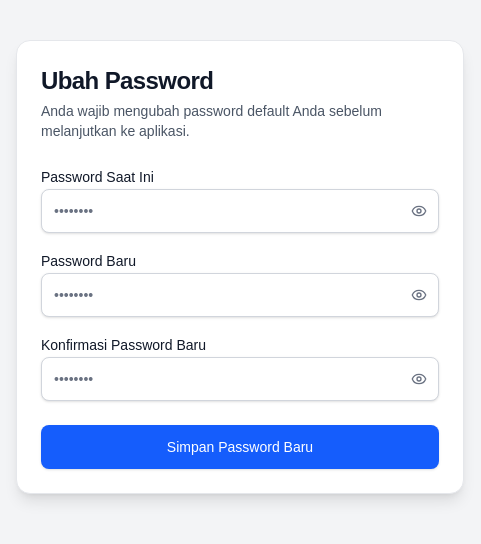
Scenario: ChangePasswordPage › shows validation errors for short password or mismatched confirmation
The width and height of the screenshot is (481, 544).
Step 1. Type "oldpass" into the password field labelled "Password Saat Ini" → (240, 211), box 41,189 -> 439,233
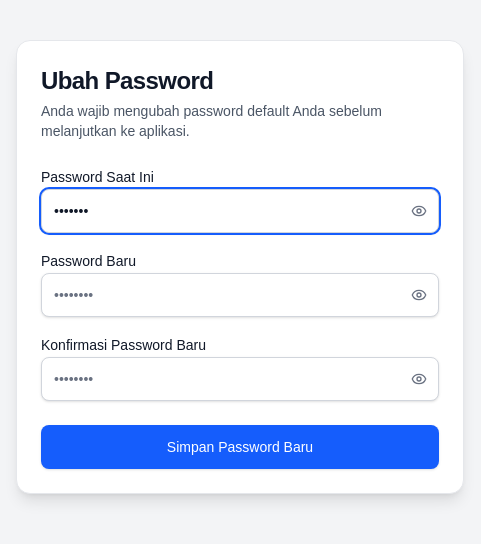
Step 2. Type "short" into the password field labelled "Password Baru" → (240, 295), box 41,273 -> 439,317
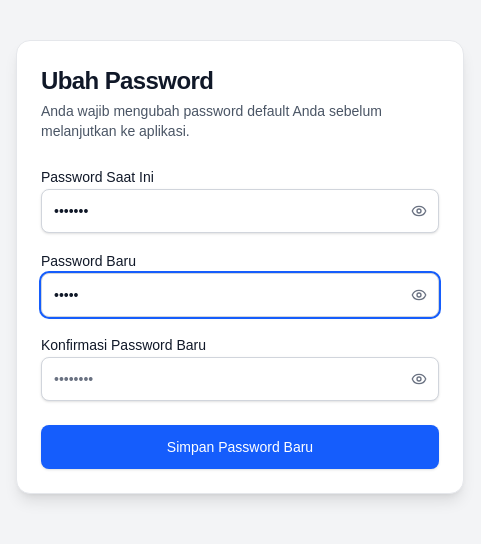
Step 3. Type "different" into the password field labelled "Konfirmasi Password Baru" → (240, 379), box 41,357 -> 439,401
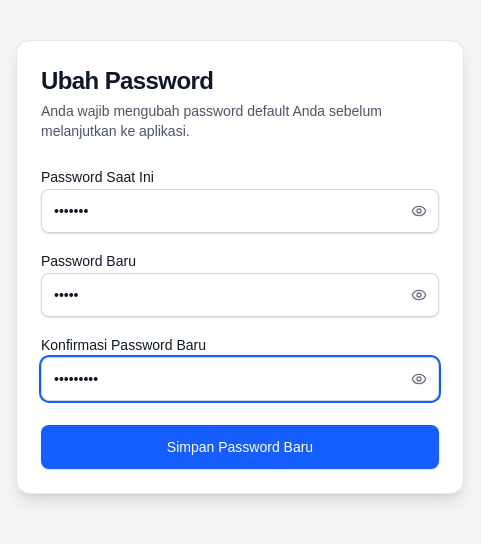
Step 4. Click the button "Simpan Password Baru" → click(240, 447), box 41,425 -> 439,469
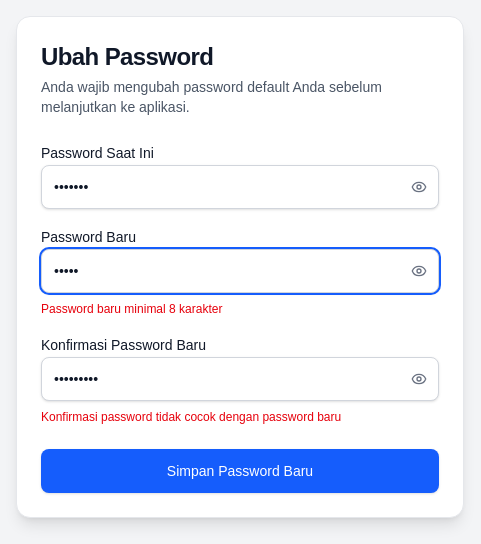
Now the text "Password baru minimal 8 karakter" is shown, box 41,302 -> 222,316
Now the text "Konfirmasi password tidak cocok dengan password baru" is shown, box 41,410 -> 341,424
